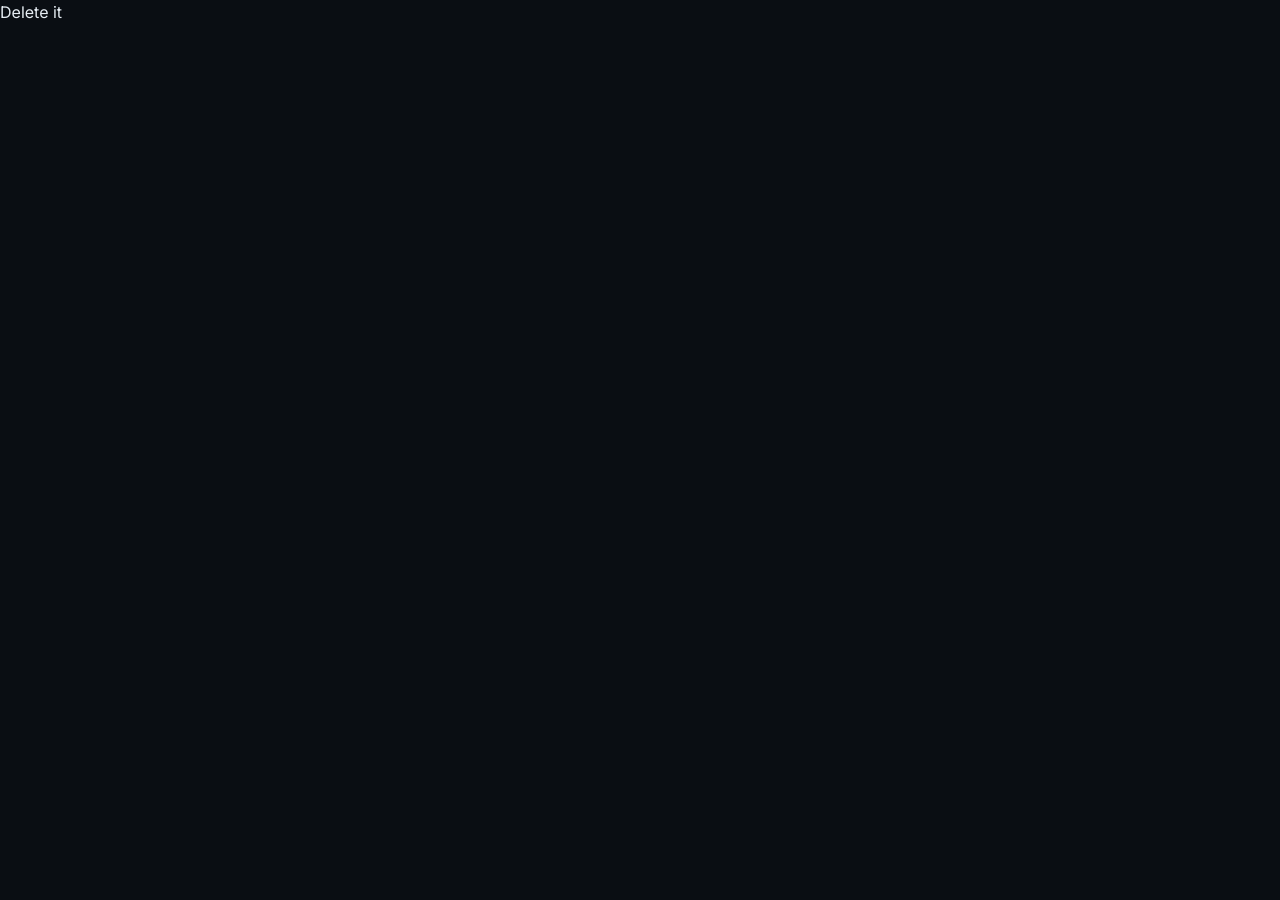
Test case: loading and error states › keeps a confirmation open and shows the server's error
The width and height of the screenshot is (1280, 900).
Click the button "Delete it".
click(31, 12)  # box 0,0 -> 62,24
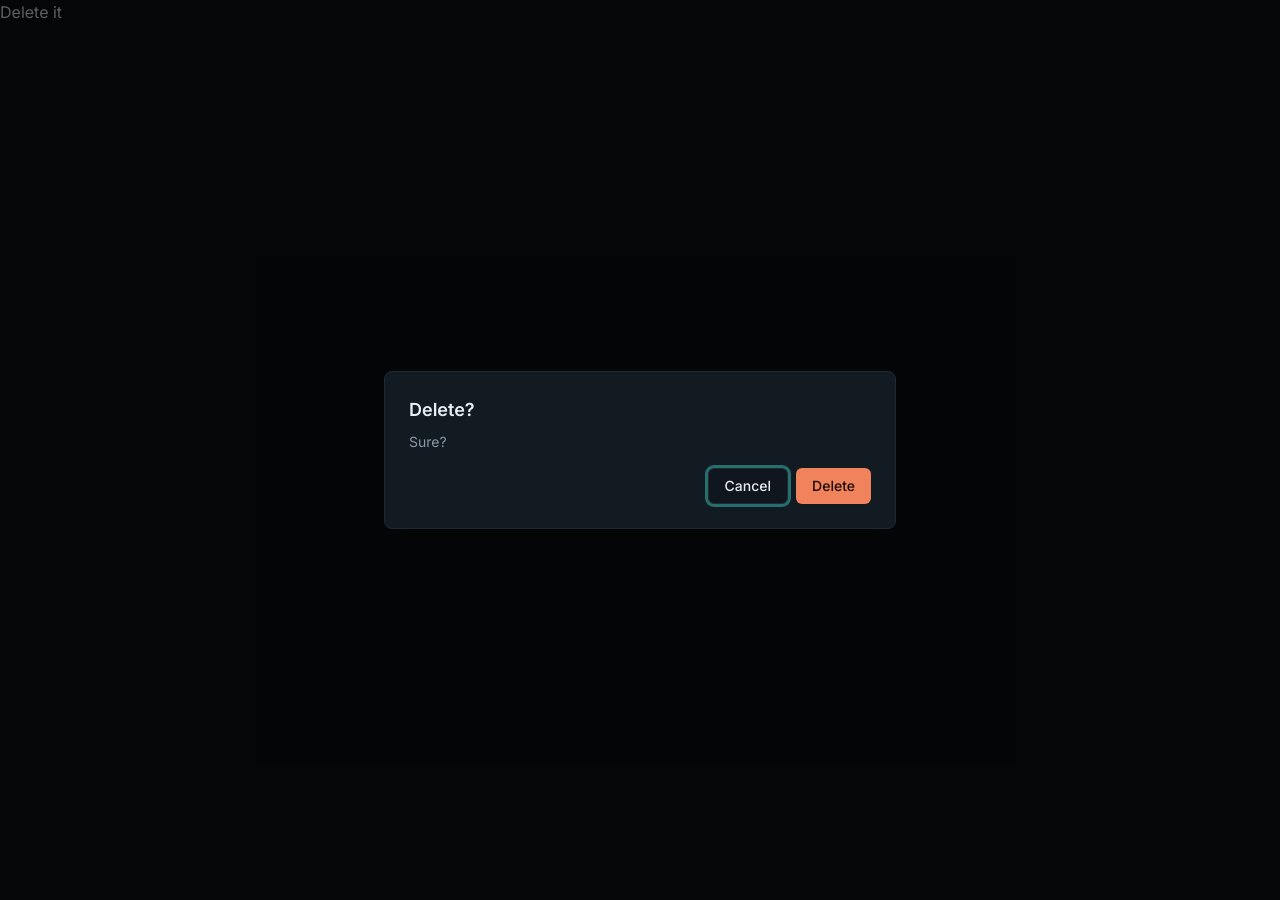
Click the button "Delete".
click(834, 486)  # box 796,468 -> 871,504
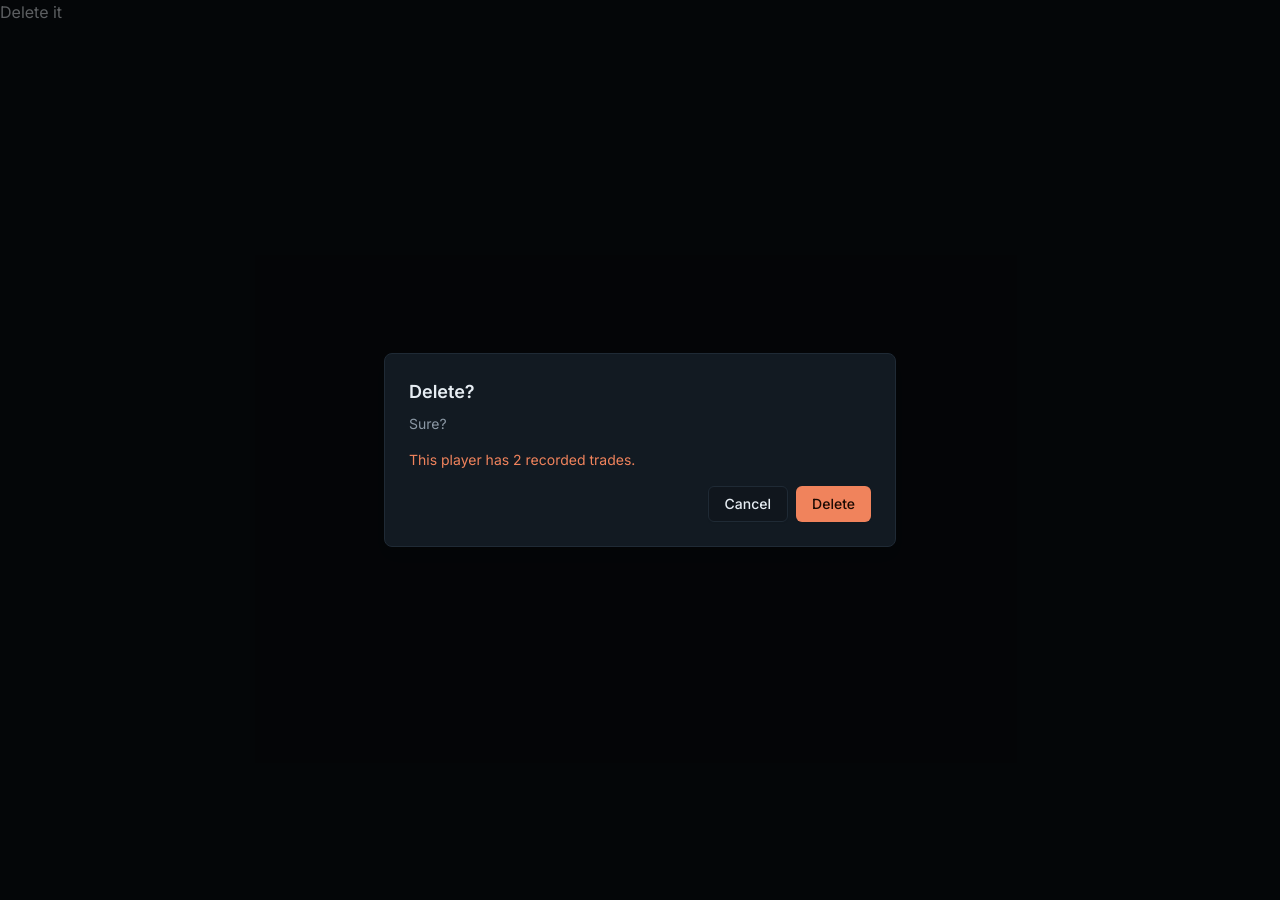
Check: the dialog is shown, box 384,353 -> 896,547
Check: the text "This player has 2 recorded trades." is shown, box 409,451 -> 635,468
